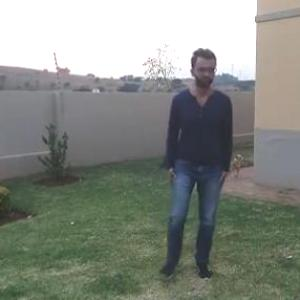follow: (150, 41, 235, 294)
